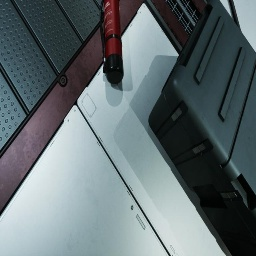FireExtinguisher ]: (99, 0, 124, 84)
